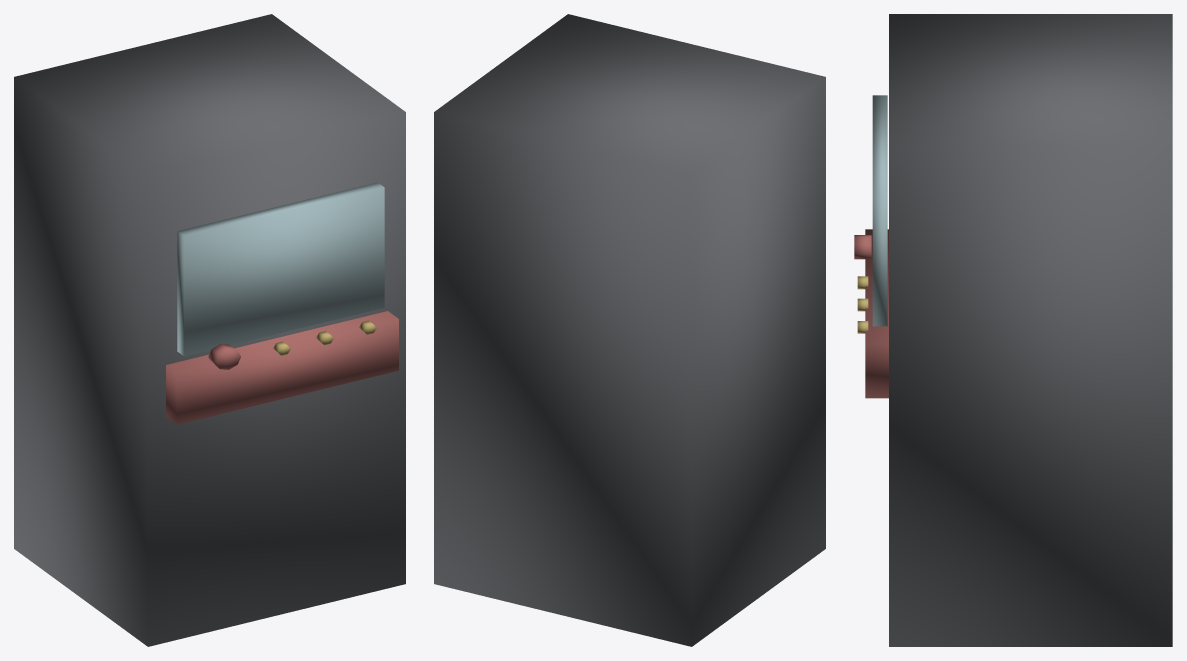
File: arcade_cabinet__squat.glb
The picture shows the model from 3 angles, left to right: view 1: azimuth 30°, elevation 25°; view 2: azimuth 150°, elevation 25°; view 3: azimuth 270°, elevation 25°; orthographic projection. The views are drawn at different scales.
Visible parts, largest first — view 1: world; view 2: world; view 3: world.
Part boxes in pixels (x1,y1,x2,y2): world: [14, 14, 405, 646]; world: [434, 14, 825, 646]; world: [854, 14, 1172, 646].
Size of the model in its own units: 0.792 by 1.39 by 0.7992.
